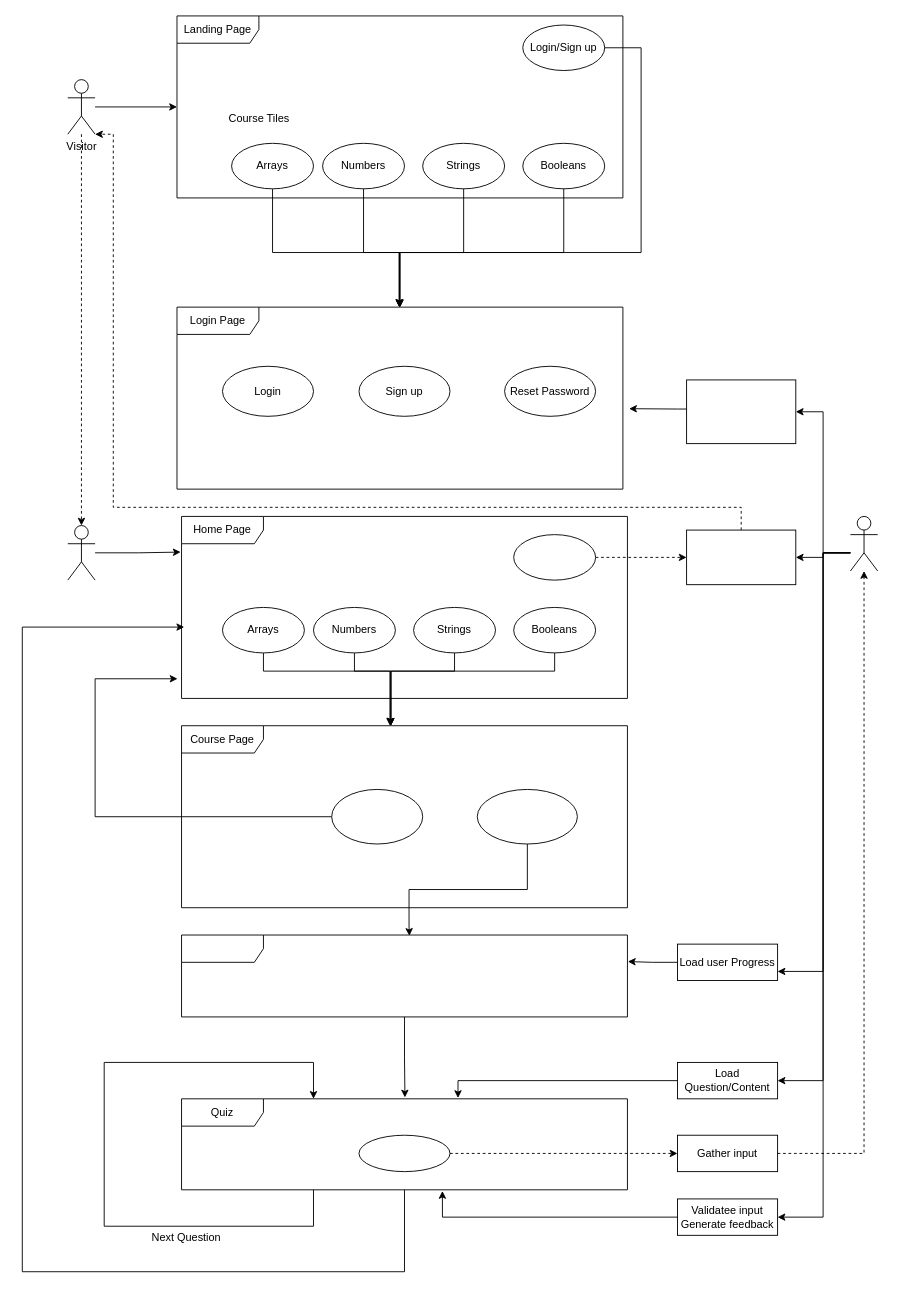
This 901x1295 diagram has some shape labels left out. The shapes that lost their labels are listed below. From the top down, each one's centre as x and y in pixels, then its label:
(x=741, y=411): Create user/login user/send reset email
(x=81, y=552): Logged in User
(x=554, y=557): Log out
(x=741, y=557): Log out user
(x=863, y=543): Backend
(x=377, y=816): Back
(x=526, y=816): Play
(x=404, y=975): Course Progress
(x=404, y=1153): Answer
